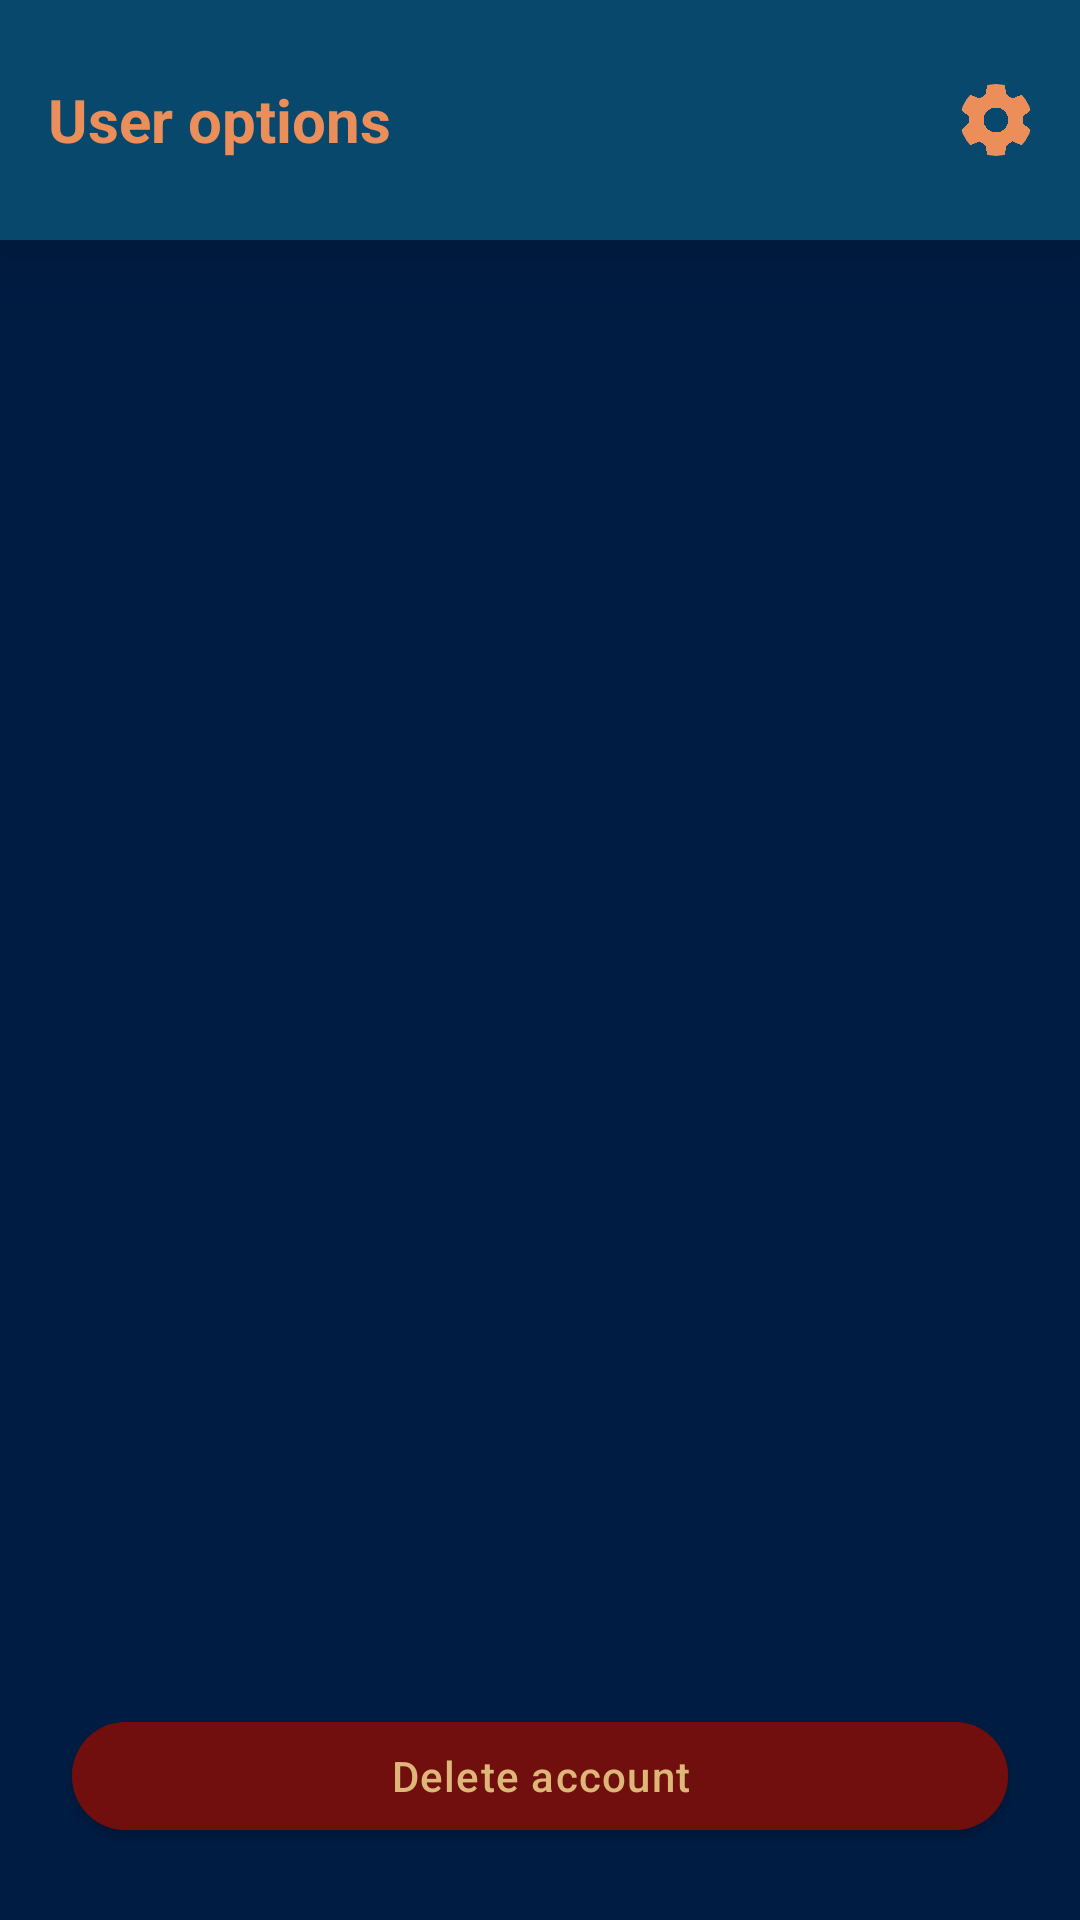

Icons on this 1080px×1920px Android screen, each with the point to tap as point (x, y):
cogwheel: point (996, 120)
